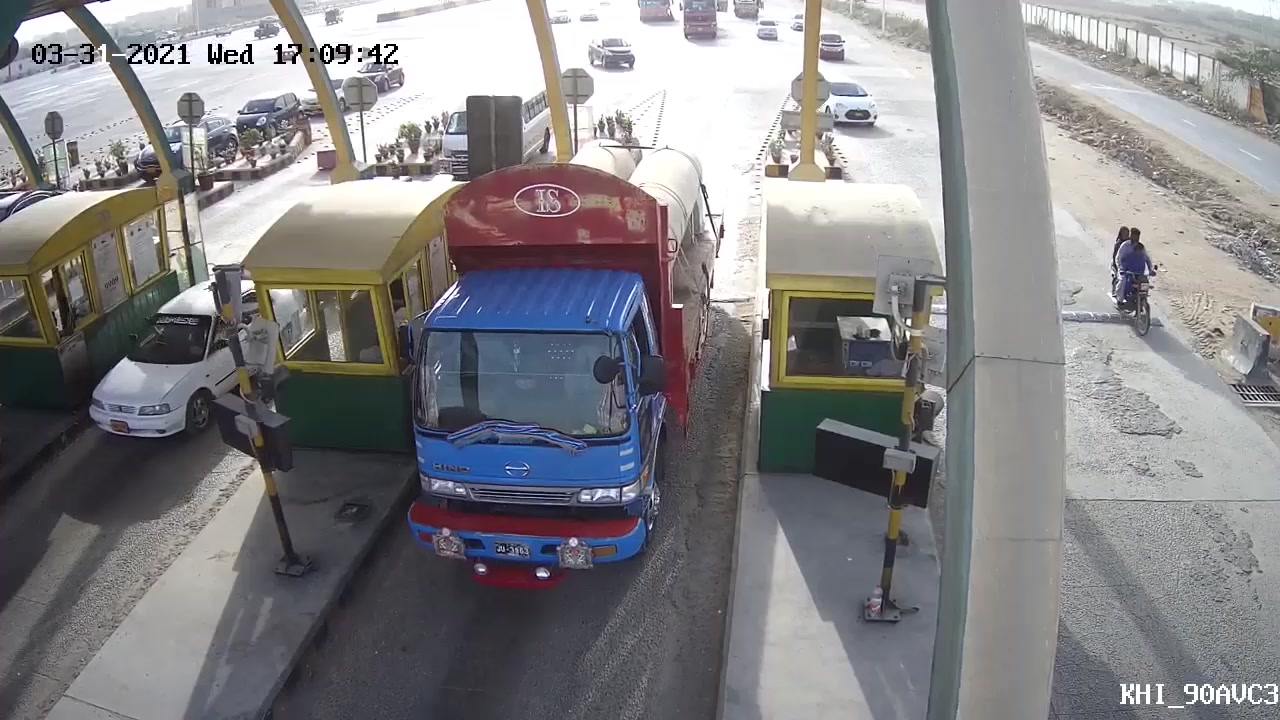F5: (391, 135, 718, 594)
